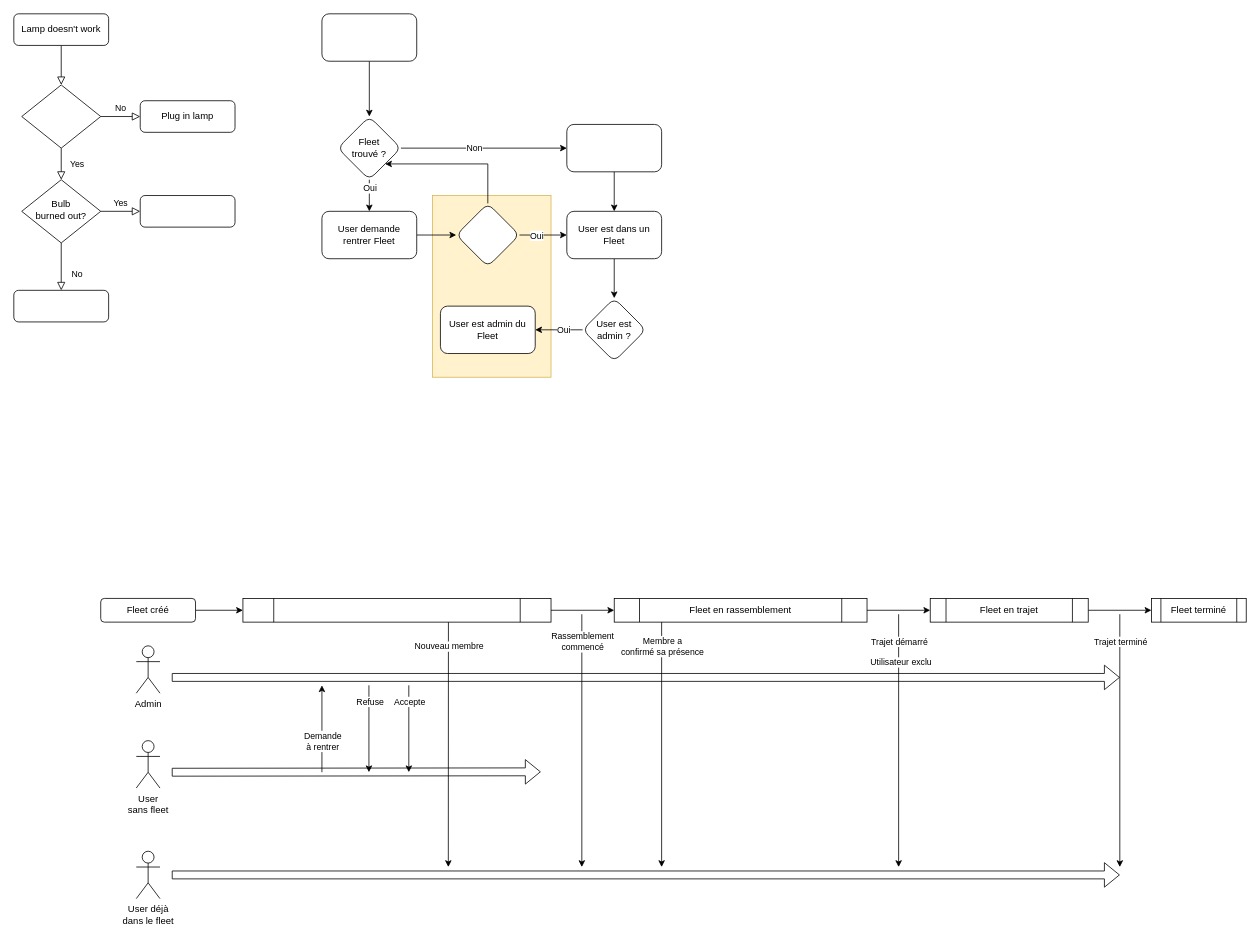
Some shapes in this 1260 by 941 pixel diagram are drawn without their labels. Here are the shapes that lost their labels. From the top down, the centre of each, then its label:
the point at 369,37: User rentre son trajet
the point at 61,116: Lamp plugged in?
the point at 614,148: User crée un Fleet
the point at 187,211: Replace Bulb
the point at 487,235: Admin accepte ?
the point at 61,306: Repair Lamp
the point at 396,610: Fleet en formation
